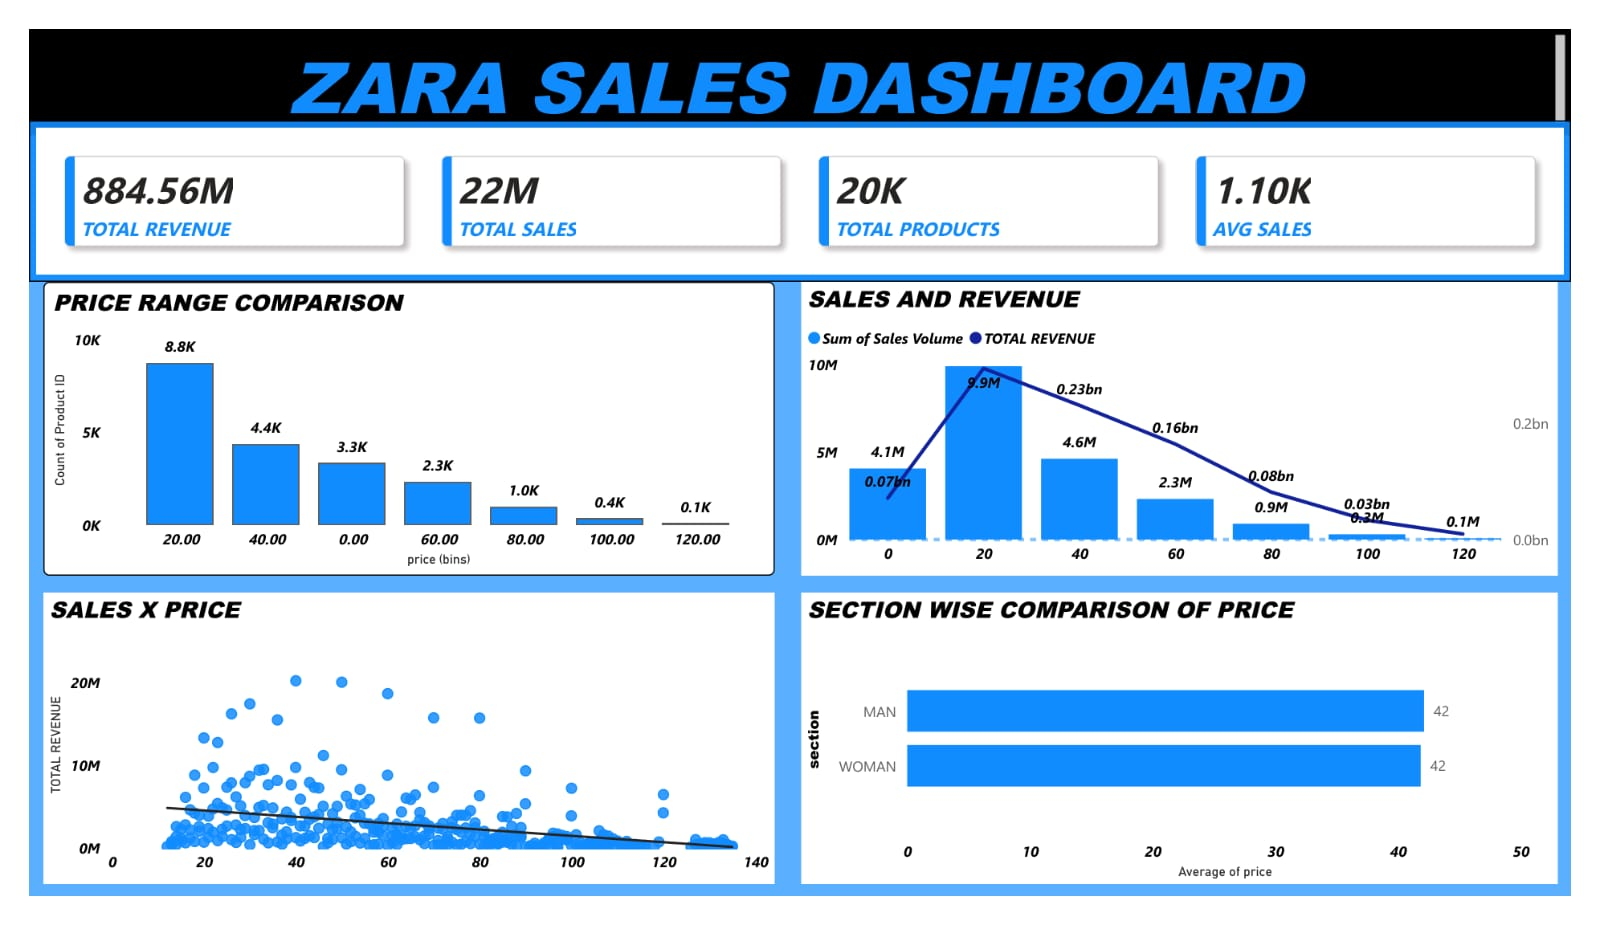

The dashboard page shown, as its layout file describes it:
{"tool":"powerbi","page":{"name":"Page 1","canvas":[1280,720],"ordinal":0},"visuals":[{"type":"textbox","box":[0,0,1280.2,87.8],"z":0},{"type":"columnChart","title":"PRICE RANGE COMPARISON","fields":{"Category":["Zara_Sales_Performance_Analysis.price (bins)"],"Y":["CountNonNull(Zara_Sales_Performance_Analysis.Product ID)"]},"box":[11.5,210.2,607.7,243.4],"z":1000},{"type":"lineStackedColumnComboChart","title":"SALES AND REVENUE","fields":{"Y2":["Zara_Sales_Performance_Analysis.TOTAL REVENUE"],"Category":["Zara_Sales_Performance_Analysis.price (bins)"],"Y":["Sum(Zara_Sales_Performance_Analysis.Sales Volume)"]},"box":[640.8,210.2,627.8,243.4],"z":2000},{"type":"scatterChart","title":"SALES X PRICE","fields":{"X":["Zara_Sales_Performance_Analysis.price"],"Y":["Zara_Sales_Performance_Analysis.TOTAL REVENUE"]},"box":[11.5,468,607.7,241.9],"z":3000},{"type":"barChart","title":"SECTION WISE COMPARISON OF PRICE","fields":{"Category":["Zara_Sales_Performance_Analysis.section"],"Y":["Avg(Zara_Sales_Performance_Analysis.price)"]},"box":[640.8,468,627.8,241.9],"z":4000},{"type":"cardVisual","fields":{"Data":["Zara_Sales_Performance_Analysis.TOTAL REVENUE","Zara_Sales_Performance_Analysis.TOTAL SALES","Zara_Sales_Performance_Analysis.TOTAL PRODUCTS","Zara_Sales_Performance_Analysis.AVG SALES"]},"box":[0,76.3,1280.2,133.9],"z":5000}]}

Visuals, with their boxes in screenshot pixels (x1, y1, x2, y2), scaled from the page's 1280x720 canvas onto the 1600x925 screenshot:
textbox: 0,0,1599,113
"PRICE RANGE COMPARISON" columnChart: 14,270,774,583
"SALES AND REVENUE" lineStackedColumnComboChart: 801,270,1586,583
"SALES X PRICE" scatterChart: 14,601,774,912
"SECTION WISE COMPARISON OF PRICE" barChart: 801,601,1586,912
cardVisual - Zara_Sales_Performance_Analysis.TOTAL REVENUE x Zara_Sales_Performance_Analysis.TOTAL SALES: 0,98,1599,270
